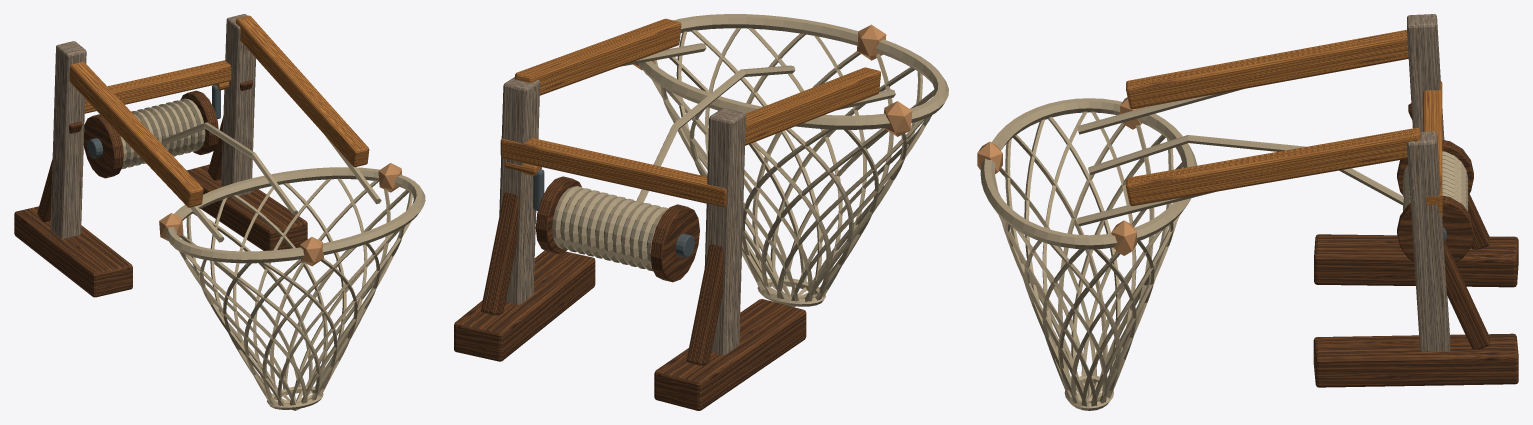
Rendered from fishingNet.glb.
3 views of the same model, side by side, from view 1: azimuth 30°, elevation 25°; view 2: azimuth 150°, elevation 25°; view 3: azimuth 270°, elevation 25° (orthographic). The views are drawn at different scales.
Visible parts, largest first — view 1: GEO-fishingNet-hemp, GEO-fishingNet-Wood-dark, GEO-fishingNet-Wood-warm, GEO-fishingNet-Wood-grey, GEO-fishingNet-cork, GEO-fishingNet-iron; view 2: GEO-fishingNet-hemp, GEO-fishingNet-Wood-dark, GEO-fishingNet-Wood-warm, GEO-fishingNet-Wood-grey, GEO-fishingNet-cork, GEO-fishingNet-iron; view 3: GEO-fishingNet-hemp, GEO-fishingNet-Wood-dark, GEO-fishingNet-Wood-warm, GEO-fishingNet-Wood-grey, GEO-fishingNet-cork.
Boxes of the visible parts, box(x1,y1,x2,y2) form: GEO-fishingNet-hemp: box(120, 98, 425, 410); GEO-fishingNet-Wood-dark: box(14, 80, 307, 297); GEO-fishingNet-Wood-warm: box(69, 15, 369, 207); GEO-fishingNet-Wood-grey: box(50, 14, 255, 238); GEO-fishingNet-cork: box(159, 163, 401, 266); GEO-fishingNet-iron: box(87, 84, 220, 157); GEO-fishingNet-hemp: box(552, 14, 948, 306); GEO-fishingNet-Wood-dark: box(454, 176, 806, 410); GEO-fishingNet-Wood-warm: box(500, 18, 880, 206); GEO-fishingNet-Wood-grey: box(499, 77, 745, 354); GEO-fishingNet-cork: box(633, 24, 912, 136); GEO-fishingNet-iron: box(533, 169, 694, 257); GEO-fishingNet-hemp: box(980, 89, 1468, 410); GEO-fishingNet-Wood-dark: box(1313, 103, 1518, 387); GEO-fishingNet-Wood-warm: box(1126, 30, 1442, 218); GEO-fishingNet-Wood-grey: box(1407, 14, 1450, 351); GEO-fishingNet-cork: box(977, 97, 1145, 255).
Size of the model in its own units: 1.23 by 1.37 by 1.97.
6 materials, 3 textured.
